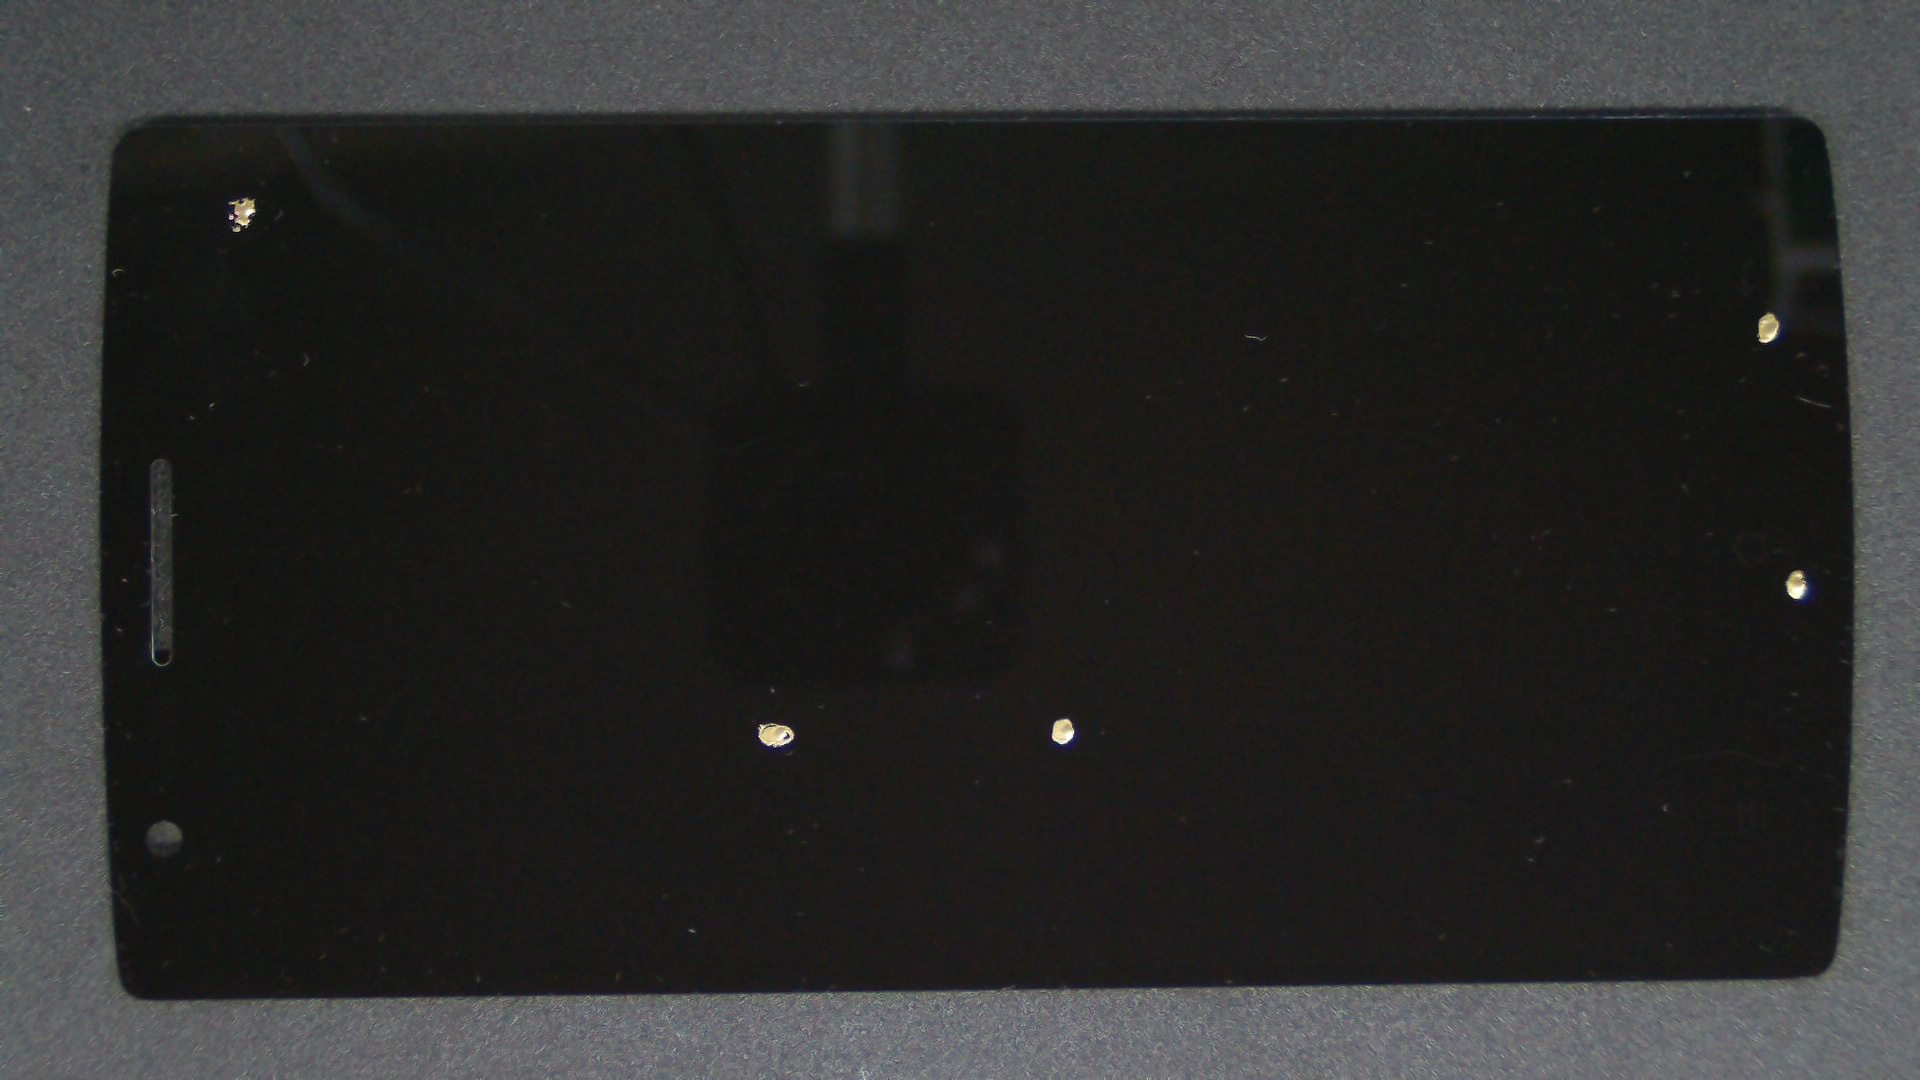oil: (530, 357, 1589, 1075), (901, 284, 1920, 852), (381, 360, 1139, 1080), (884, 156, 1920, 467), (121, 98, 363, 294)
